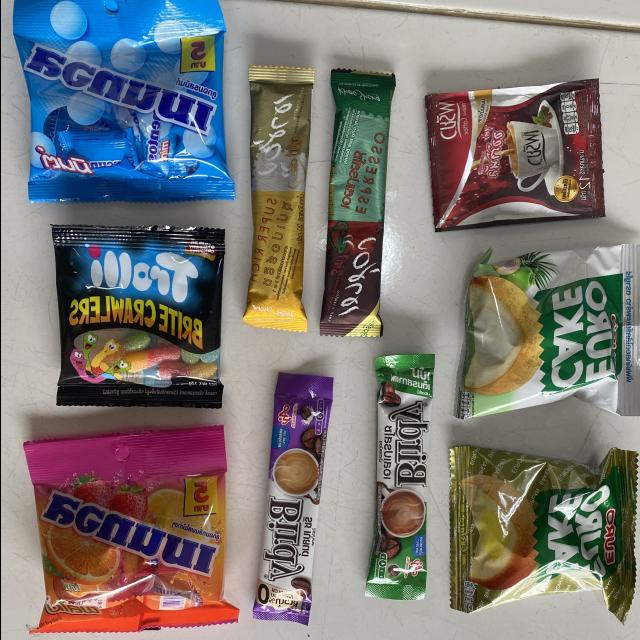plastik: (24, 425, 238, 634), (12, 0, 234, 201), (448, 445, 637, 622), (454, 245, 640, 418), (51, 226, 223, 408), (424, 79, 603, 231), (319, 69, 395, 336), (253, 373, 333, 625), (242, 65, 314, 331), (365, 354, 434, 600)
